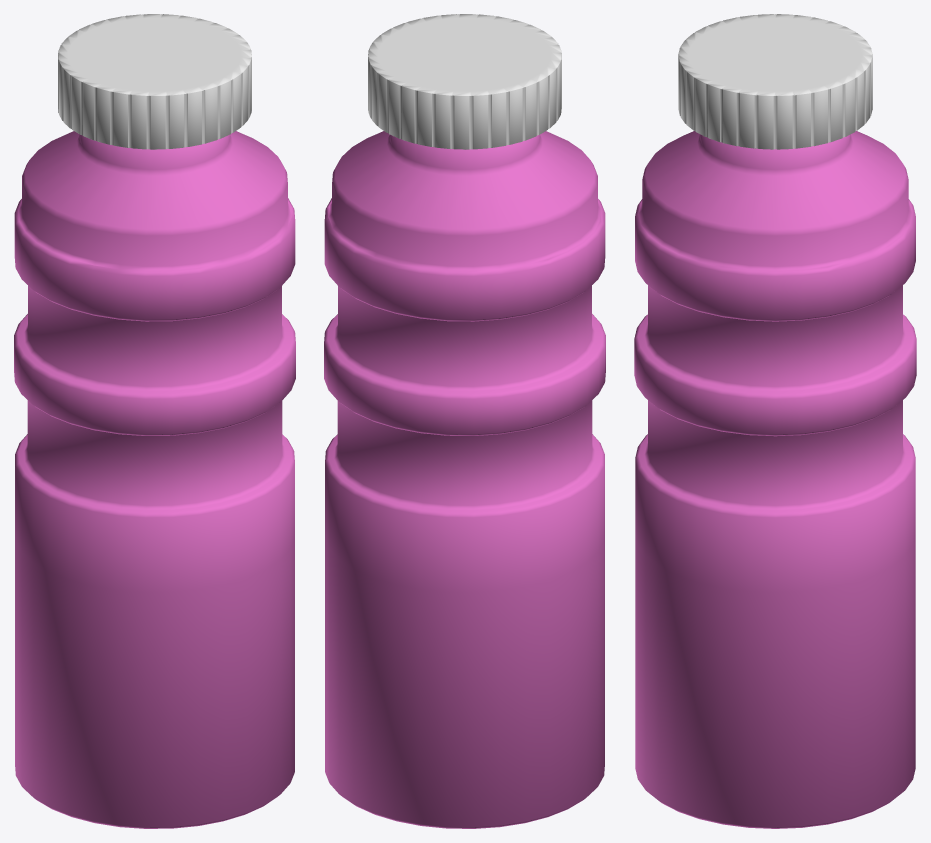
Rendered from Bubble Bottle.fbx.
3 views of the same model, side by side, from view 1: azimuth 30°, elevation 25°; view 2: azimuth 150°, elevation 25°; view 3: azimuth 270°, elevation 25° (orthographic).
Visible parts, largest first — view 1: Bottle, Cap; view 2: Bottle, Cap; view 3: Bottle, Cap.
Boxes of the visible parts, left/top/right/bottom form: Bottle: left=14, top=131, right=295, bottom=828; Cap: left=58, top=14, right=251, bottom=149; Bottle: left=324, top=131, right=605, bottom=828; Cap: left=368, top=14, right=561, bottom=149; Bottle: left=634, top=131, right=916, bottom=828; Cap: left=678, top=14, right=872, bottom=149.
Bounding box in the file's own units: 120 × 334 × 120.
